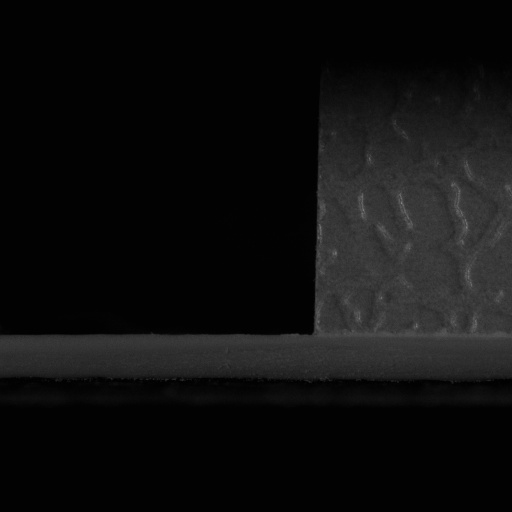changdai: (0, 332, 316, 385)
